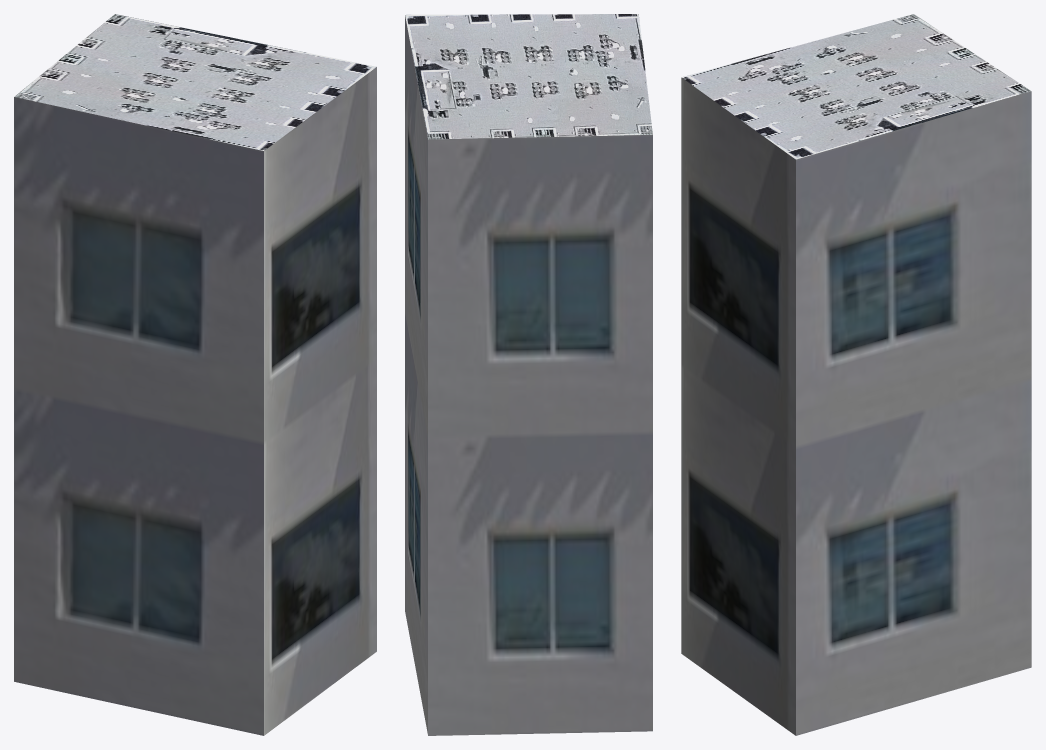
The model's file is ResTex__4761.fbx.
3 views of the same model, side by side, from view 1: azimuth 30°, elevation 25°; view 2: azimuth 150°, elevation 25°; view 3: azimuth 270°, elevation 25° (orthographic). The views are drawn at different scales.
Parts seen in each view (by area): view 1: CityEngineMaterial_10_m, CityEngineMaterial_m; view 2: CityEngineMaterial_10_m, CityEngineMaterial_m; view 3: CityEngineMaterial_10_m, CityEngineMaterial_m.
Part boxes in pixels (box(x1,y1,x2,y2)): CityEngineMaterial_10_m: box(14, 67, 376, 735); CityEngineMaterial_m: box(14, 14, 376, 150); CityEngineMaterial_10_m: box(405, 15, 652, 735); CityEngineMaterial_m: box(405, 14, 652, 139); CityEngineMaterial_10_m: box(681, 77, 1031, 735); CityEngineMaterial_m: box(681, 14, 1030, 159).
Bounding box in the file's own units: 3.25 × 6 × 3.31.
2 materials, 2 textured.
